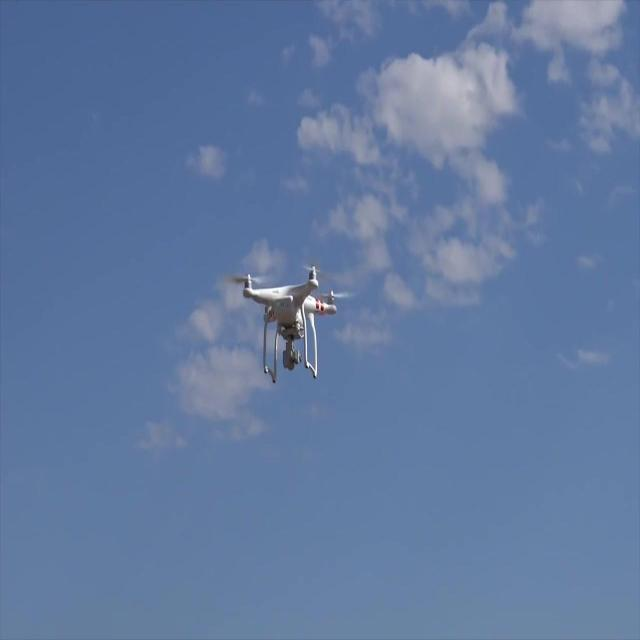drone: (241, 262, 345, 387)
